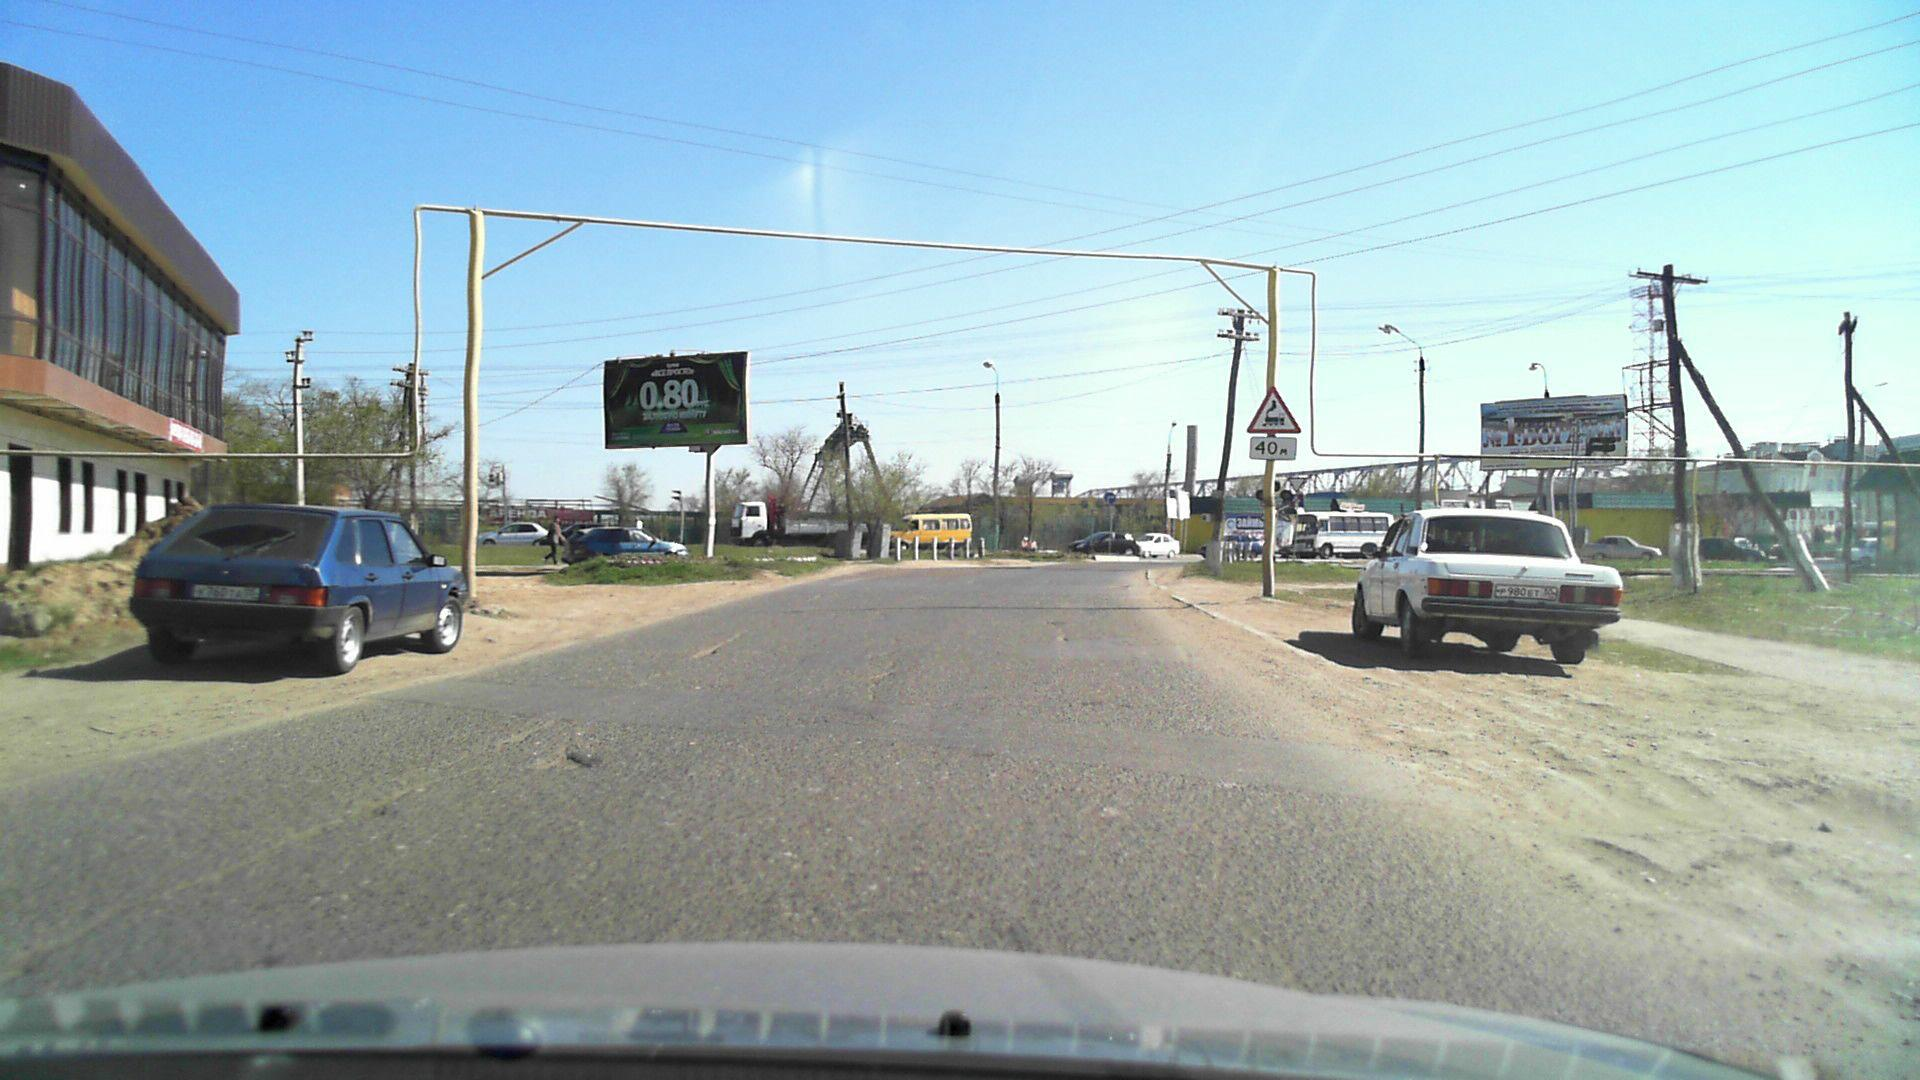1_2: (1244, 386, 1302, 434)
2_4: (1288, 476, 1308, 493)
4_1_2: (1104, 492, 1116, 504)
5_6: (1291, 492, 1307, 508)
8_1_1: (1249, 436, 1298, 462)
